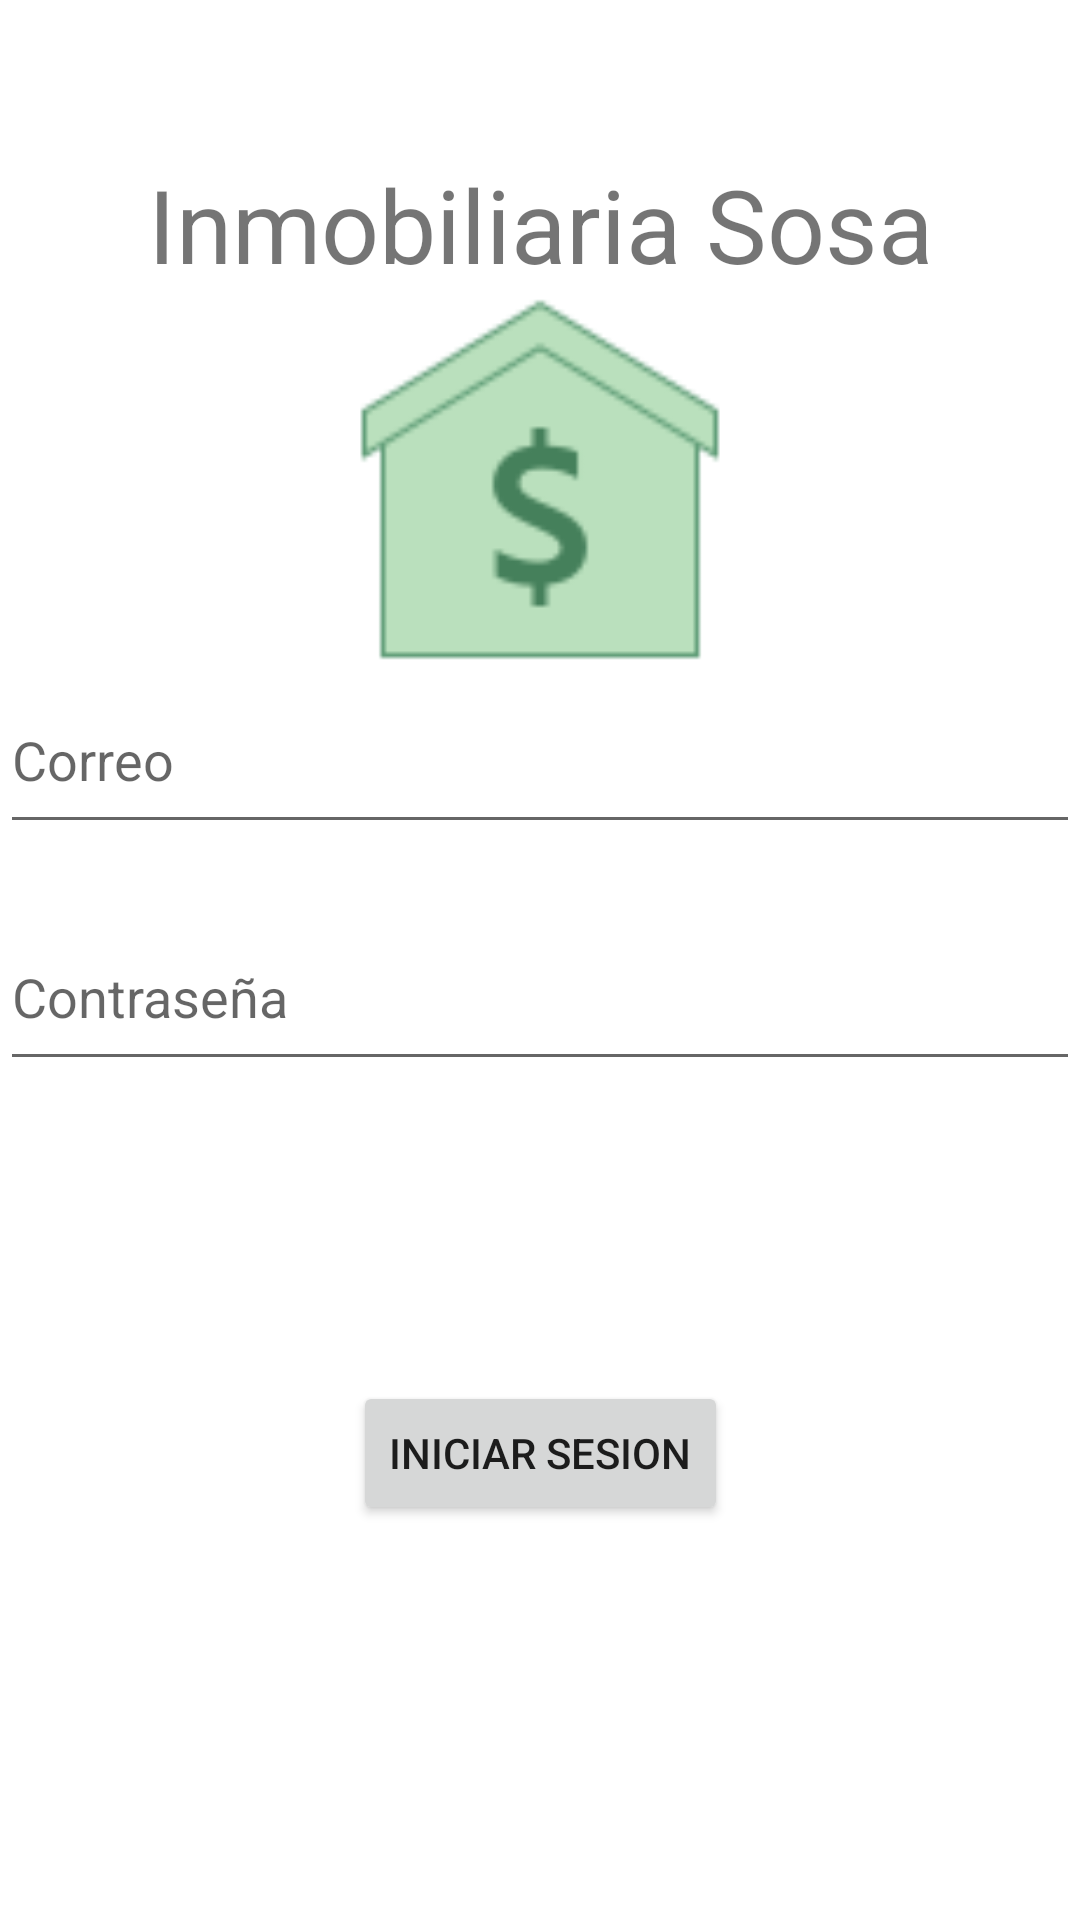

Named icons in this screenshot (1080w x 1920h) and their centers, (x=x, y=y):
iconsrent: (x=540, y=479)
